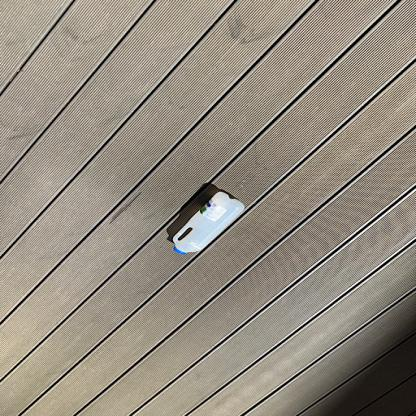trash: (169, 190, 253, 262)
